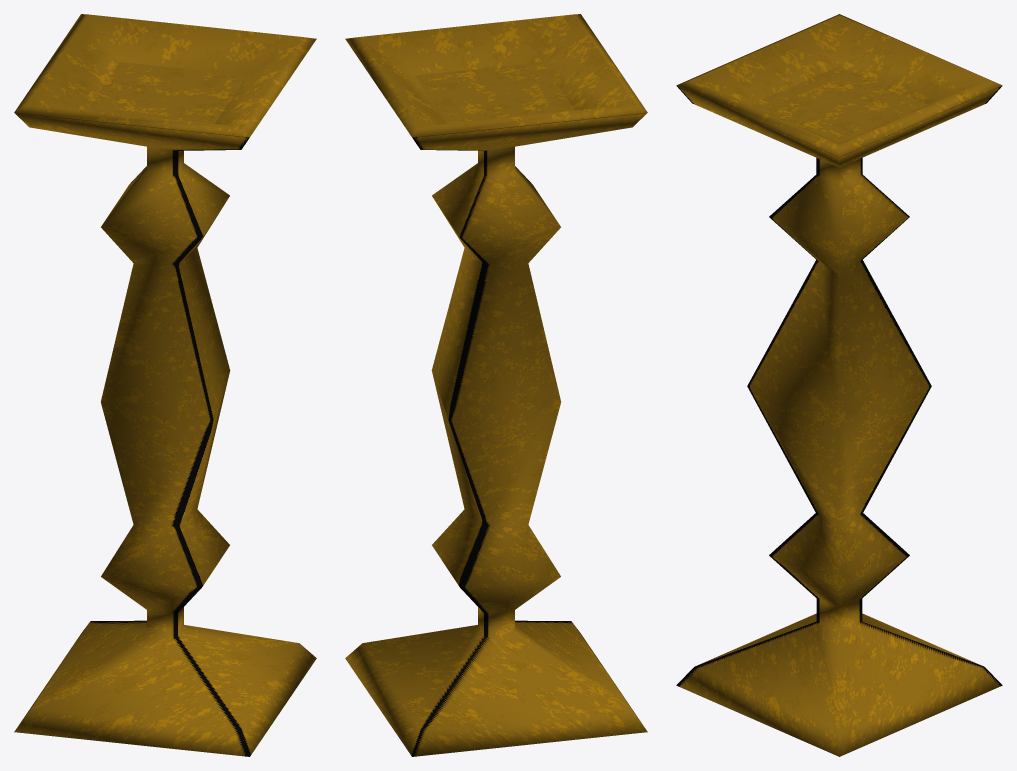
File: candleholder.fbx
3 renders of one model, left to right at view 1: azimuth 30°, elevation 25°; view 2: azimuth 150°, elevation 25°; view 3: azimuth 270°, elevation 25°, orthographic. The views are drawn at different scales.
Parts seen in each view (by area): view 1: candleholder; view 2: candleholder; view 3: candleholder.
Part boxes in pixels (bbox=[...]): candleholder: bbox=[14, 14, 316, 756]; candleholder: bbox=[345, 14, 647, 756]; candleholder: bbox=[676, 14, 1002, 756].
Size of the model in its own units: 19.88 by 39.19 by 19.19.
